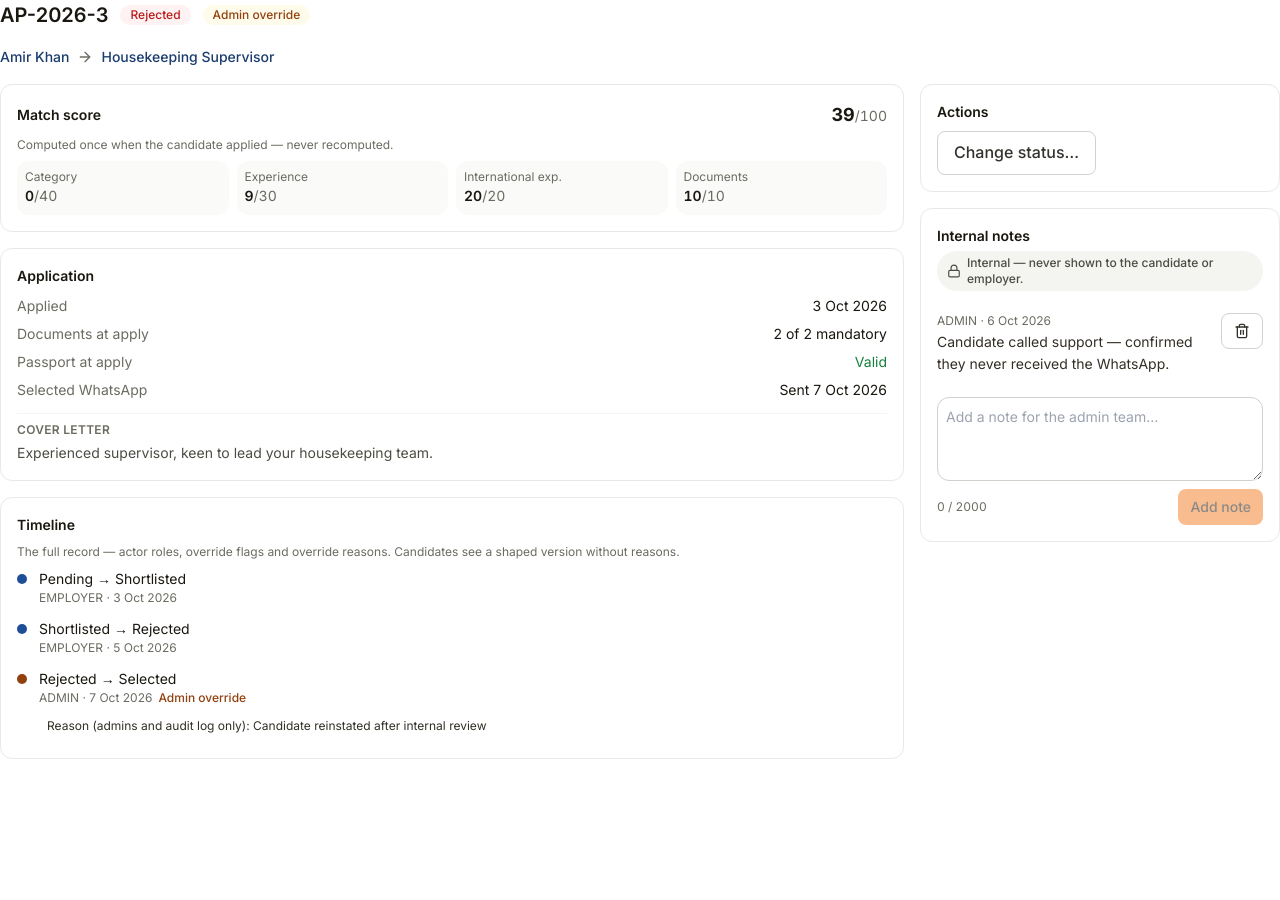
Test: OverrideDialog › re-selecting an already-notified application surfaces the "no new WhatsApp" guard note
The width and height of the screenshot is (1280, 900).
Expected: the heading "AP-2026-3" is shown, x1=0 y1=0 x2=108 y2=30
Click the button "Change status…".
click(1017, 153)  # box x1=937 y1=131 x2=1096 y2=175
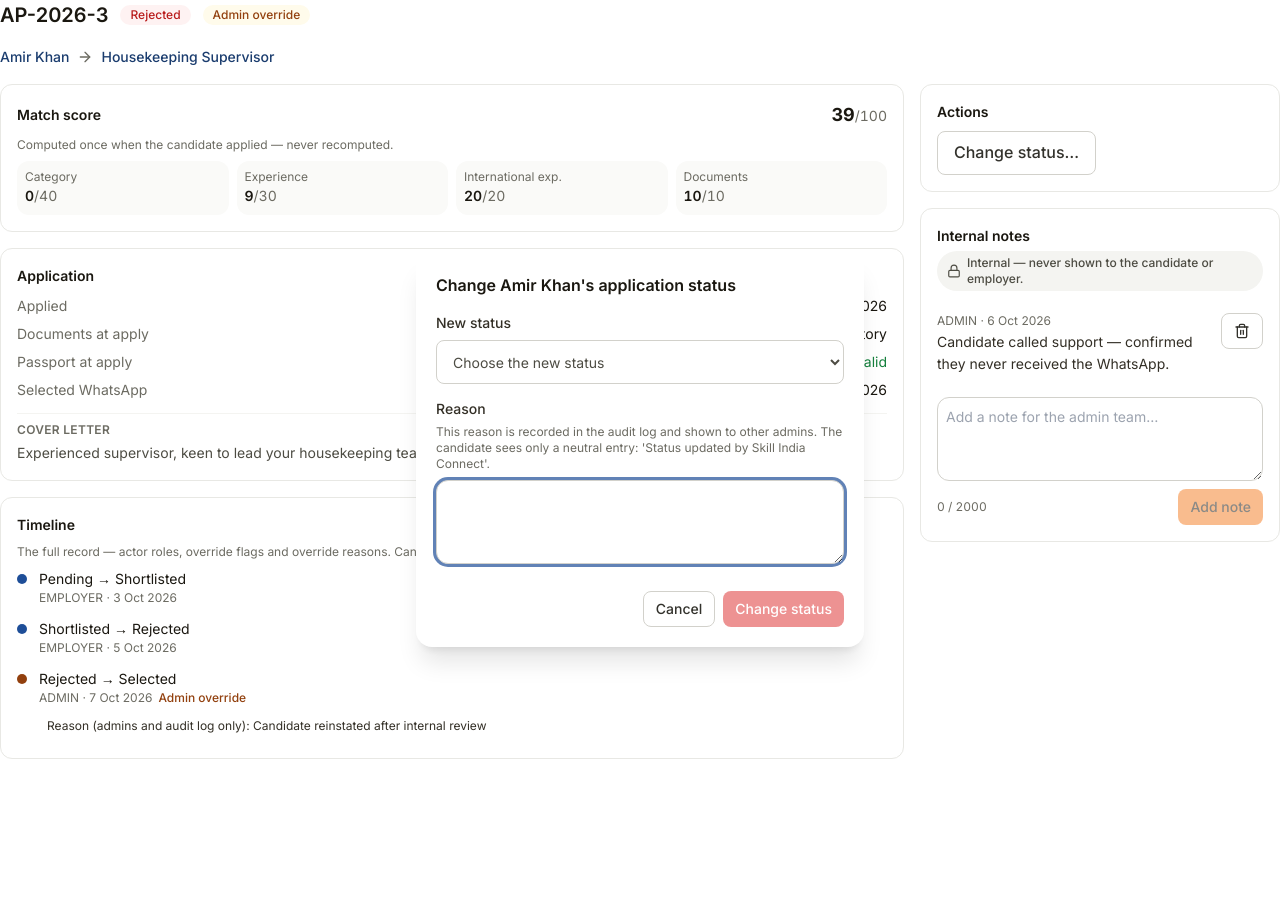
Select "Selected" in the dropdown labelled "New status" at (640, 362), box x1=436 y1=340 x2=844 y2=384
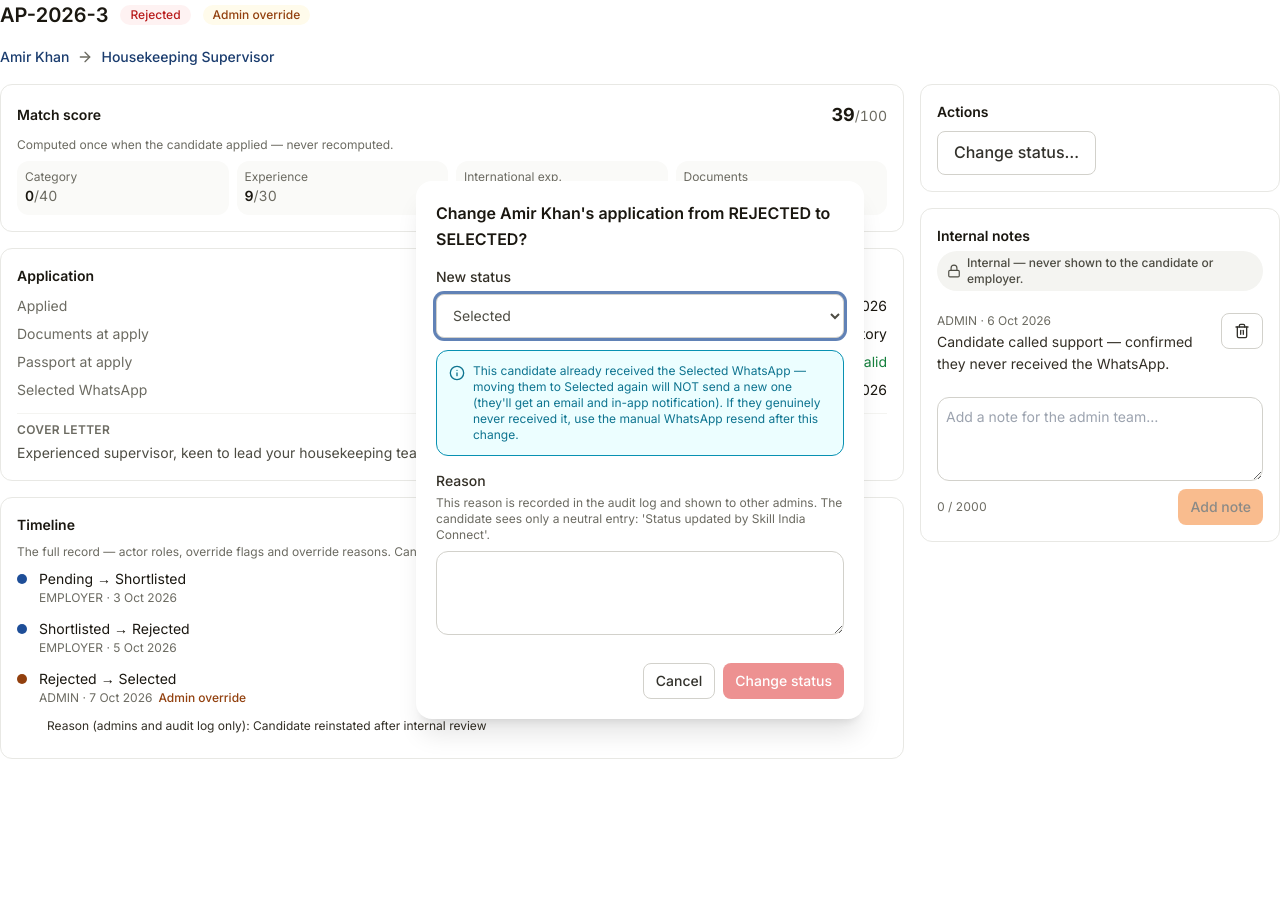
Now the text "use the manual WhatsApp resend" is shown, box x1=473 y1=363 x2=820 y2=442
